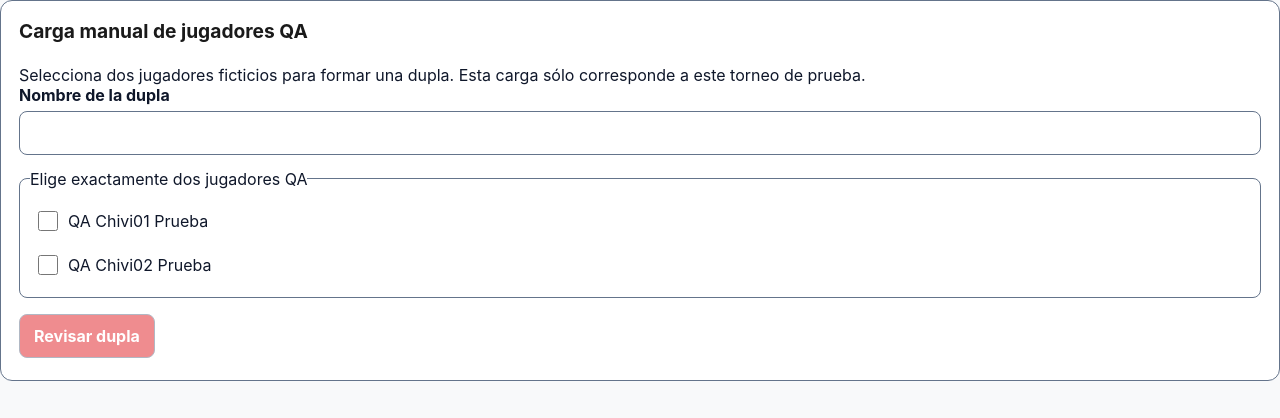
Scenario: catalog does not enroll anybody and requires explicit two-player confirmation
The width and height of the screenshot is (1280, 418).
Expected: the heading "Carga manual de jugadores QA" is shown, [19,19,308,43]
Type "QA Dupla A" into the field labelled "Nombre de la dupla" at coordinates (640, 133), box [19,111,1261,155]
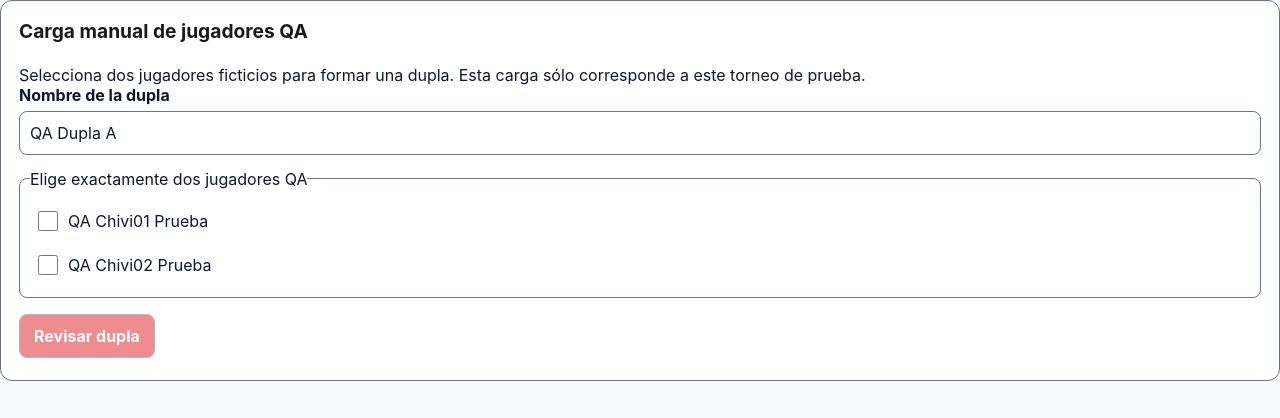
Click the checkbox labelled "QA Chivi01 Prueba" at coordinates (48, 221), box [38,211,58,231]
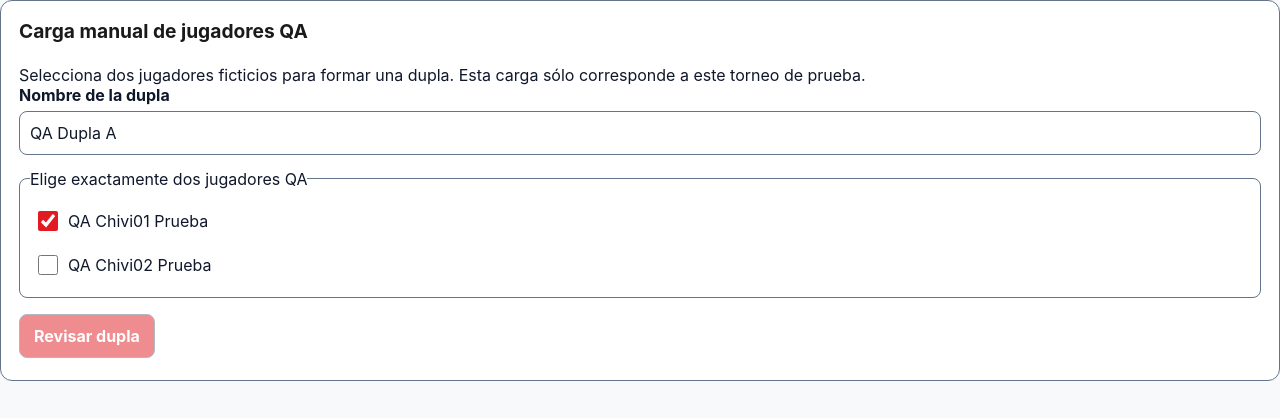
Click the checkbox labelled "QA Chivi02 Prueba" at coordinates (48, 265), box [38,255,58,275]
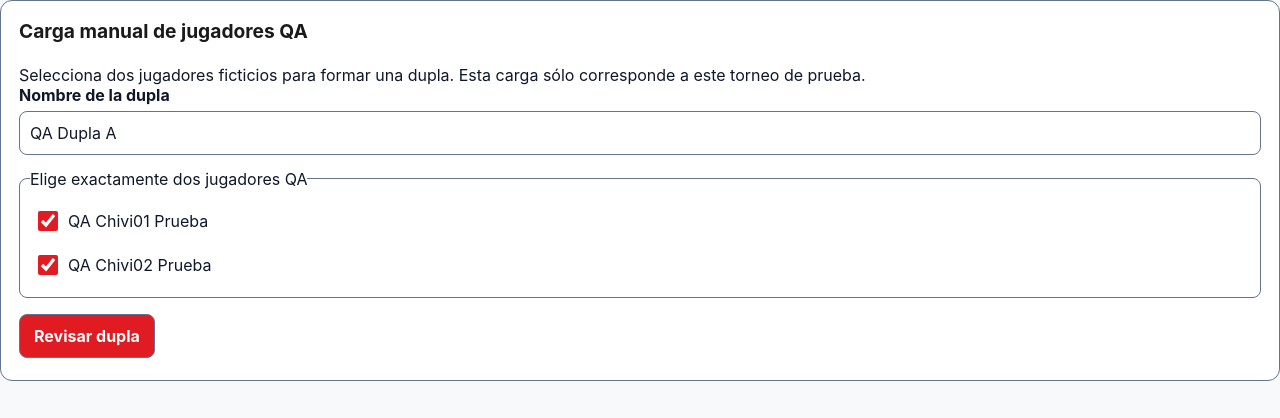
Click the button "Revisar dupla" at coordinates (87, 336), box [19,314,155,358]
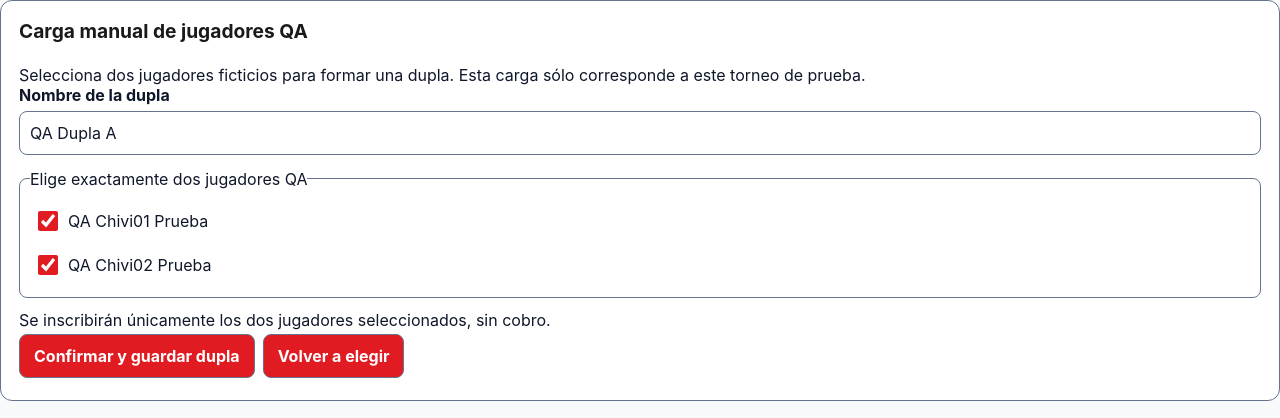
Click the button "Confirmar y guardar dupla" at coordinates (137, 356), box [19,334,255,378]
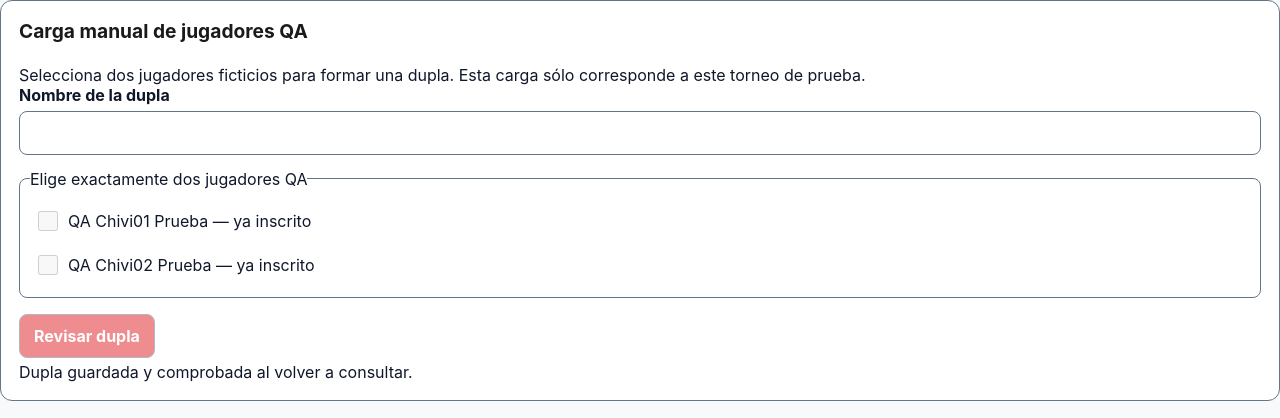
Result: the message "Dupla guardada y comprobada al volver a consultar." is shown at [19,362,413,382]
